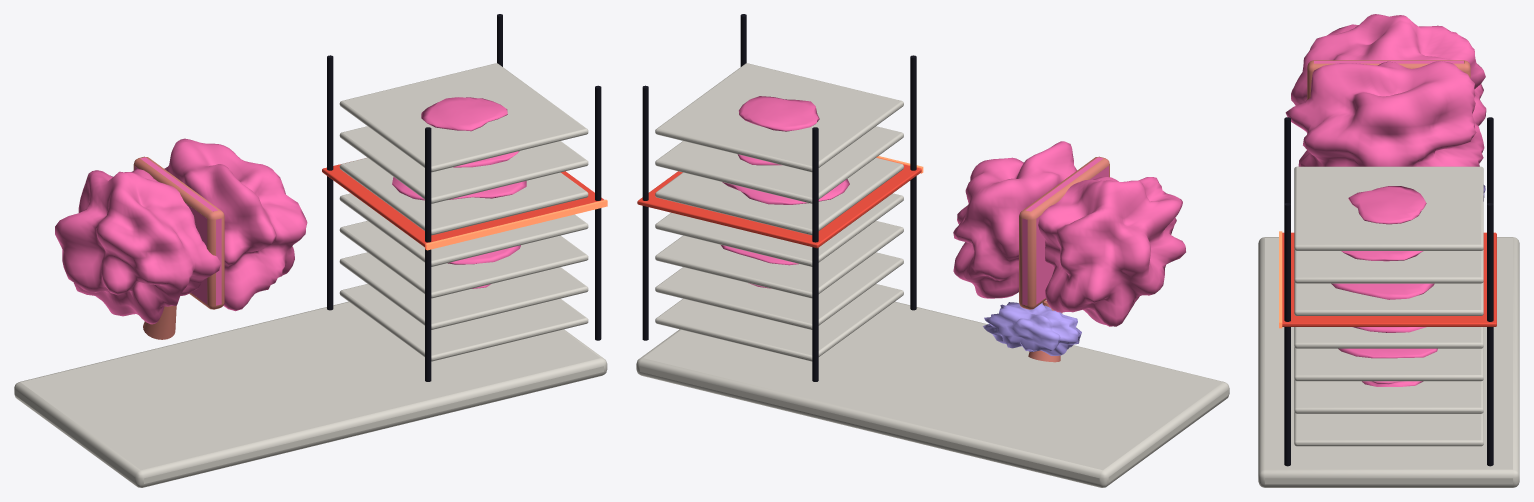
Rendered from brain.glb.
The picture shows the model from 3 angles, left to right: view 1: azimuth 30°, elevation 25°; view 2: azimuth 150°, elevation 25°; view 3: azimuth 270°, elevation 25°; orthographic projection. The views are drawn at different scales.
Parts seen in each view (by area): view 1: base, slices, brain.001, frame, slide_scan; view 2: slices, base, brain.001, frame, slide_scan; view 3: slices, brain.001, base, frame, slide_scan.
Boxes of the visible parts, left/top/right/bottom form: base: left=14, top=301, right=607, bottom=487; slices: left=339, top=63, right=588, bottom=361; brain.001: left=55, top=138, right=307, bottom=339; frame: left=327, top=14, right=601, bottom=381; slide_scan: left=322, top=164, right=607, bottom=250; slices: left=655, top=63, right=903, bottom=361; base: left=636, top=301, right=1229, bottom=487; brain.001: left=953, top=141, right=1185, bottom=362; frame: left=642, top=14, right=916, bottom=381; slide_scan: left=637, top=156, right=923, bottom=248; slices: left=1294, top=166, right=1483, bottom=446; brain.001: left=1285, top=14, right=1486, bottom=201; base: left=1258, top=237, right=1519, bottom=487; frame: left=1284, top=117, right=1493, bottom=466; slide_scan: left=1279, top=231, right=1496, bottom=328.
Bounding box in the file's own units: 8.75 × 4.85 × 4.
